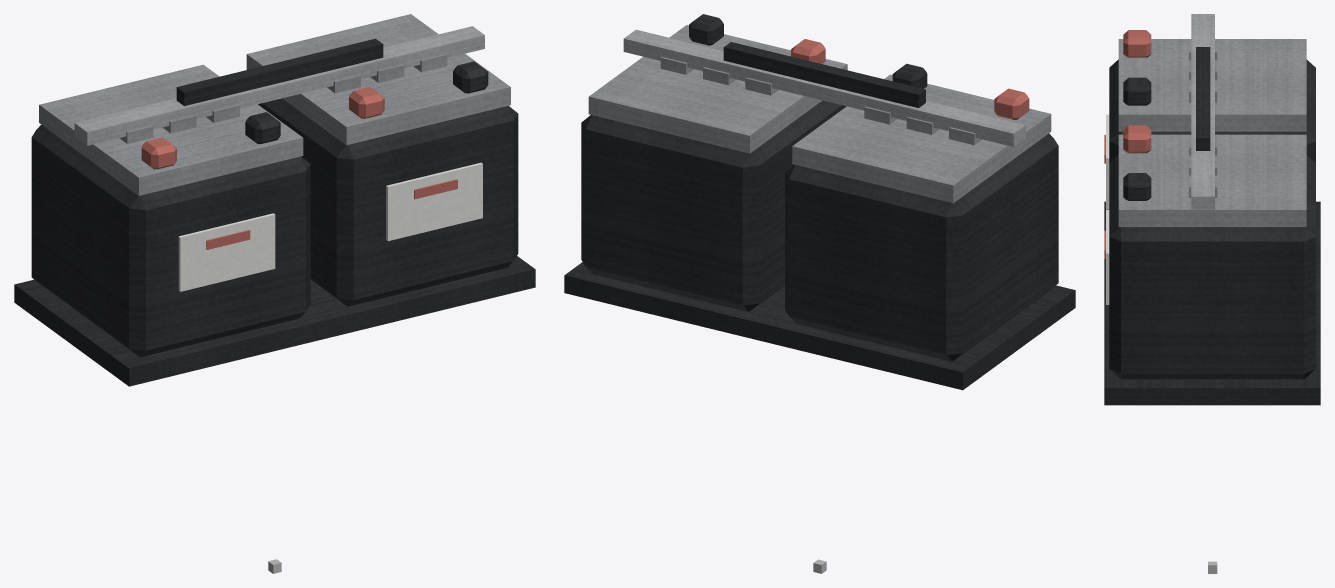
File: rv_furn_battery.gltf
The picture shows the model from 3 angles, left to right: view 1: azimuth 30°, elevation 25°; view 2: azimuth 150°, elevation 25°; view 3: azimuth 270°, elevation 25°; orthographic projection. The views are drawn at different scales.
Parts seen in each view (by area): view 1: RV_Furn_Battery; view 2: RV_Furn_Battery; view 3: RV_Furn_Battery.
Boxes of the visible parts, x1,y1,x2,y2 form: RV_Furn_Battery: [14, 14, 535, 573]; RV_Furn_Battery: [564, 14, 1075, 573]; RV_Furn_Battery: [1104, 14, 1320, 573].
Bounding box in the file's own units: 0.94 × 1.12 × 0.4605.
6 materials, 5 textured.
